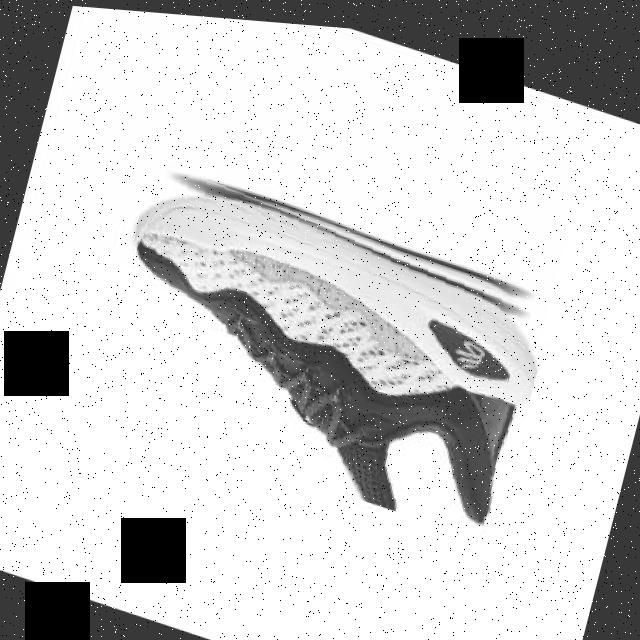shoe: (82, 153, 554, 535), (124, 185, 538, 512)
